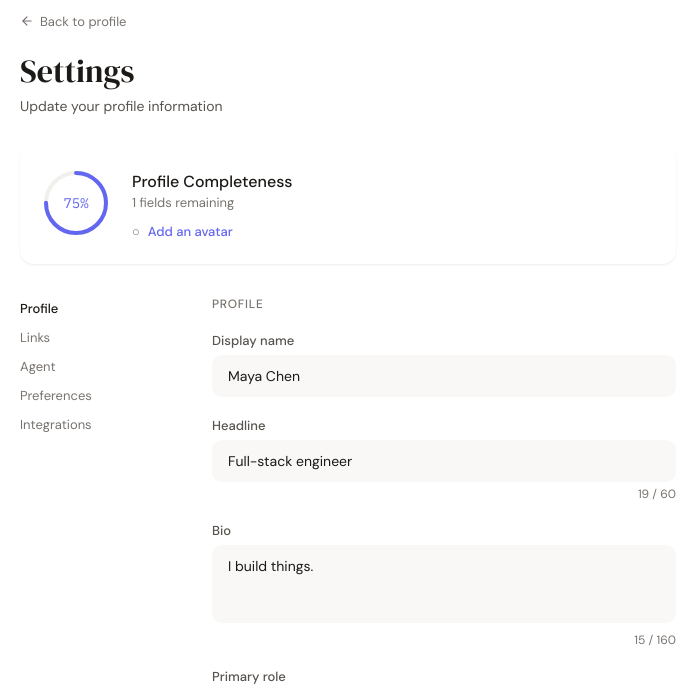
Test: SettingsPage › Links section › shows extra non-default entries as additional rows
Click the button "Links".
click(100, 337)  # box [20, 325, 180, 350]
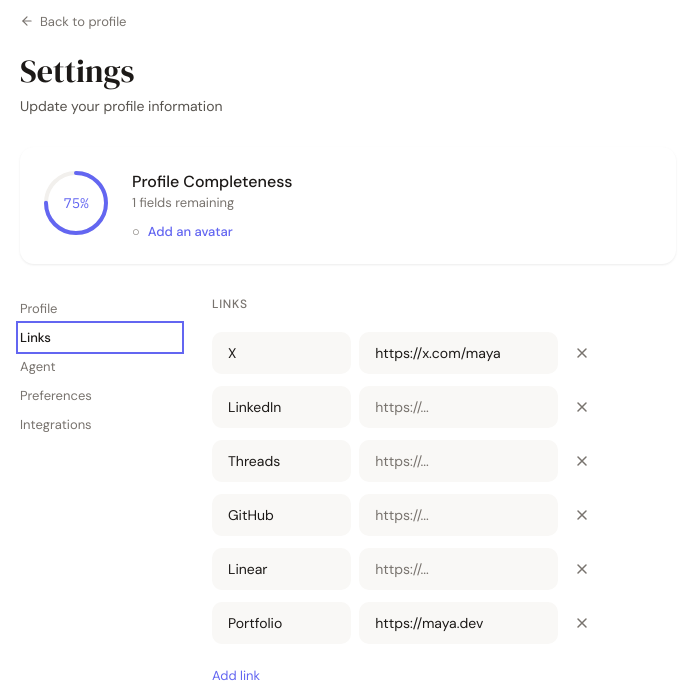
Now the number of fields named "Link 1 label" is 6, box [212, 332, 351, 374]; [212, 386, 351, 428]; [212, 440, 351, 482]; [212, 494, 351, 536]; [212, 548, 351, 590]; [212, 602, 351, 644]
Now the field named "Link 6 label" holds "Portfolio", box [212, 602, 351, 644]
Now the field named "Link 6 URL" holds "https://maya.dev", box [359, 602, 558, 644]
